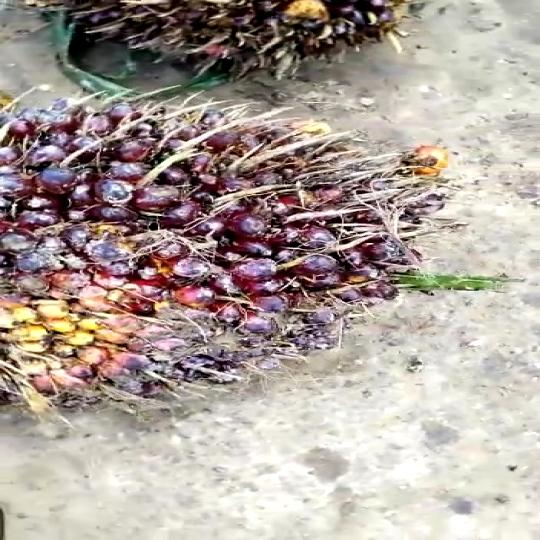kurang masak: (1, 91, 421, 421)
